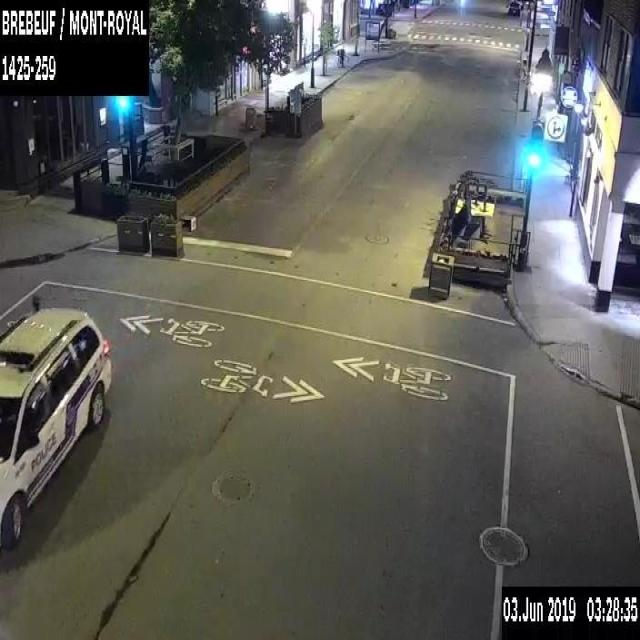vehicle: (0, 293, 114, 555), (505, 0, 520, 19)
